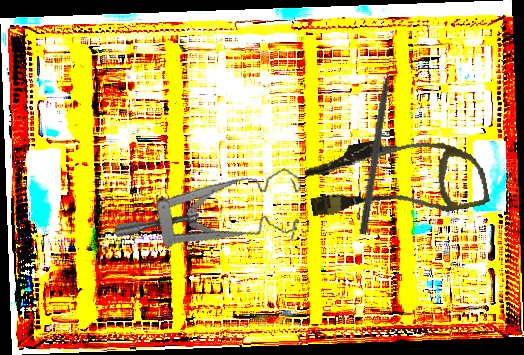Cannula: (301, 120, 491, 238)
Pusher: (358, 46, 399, 236)
Speculum: (113, 133, 310, 278)
